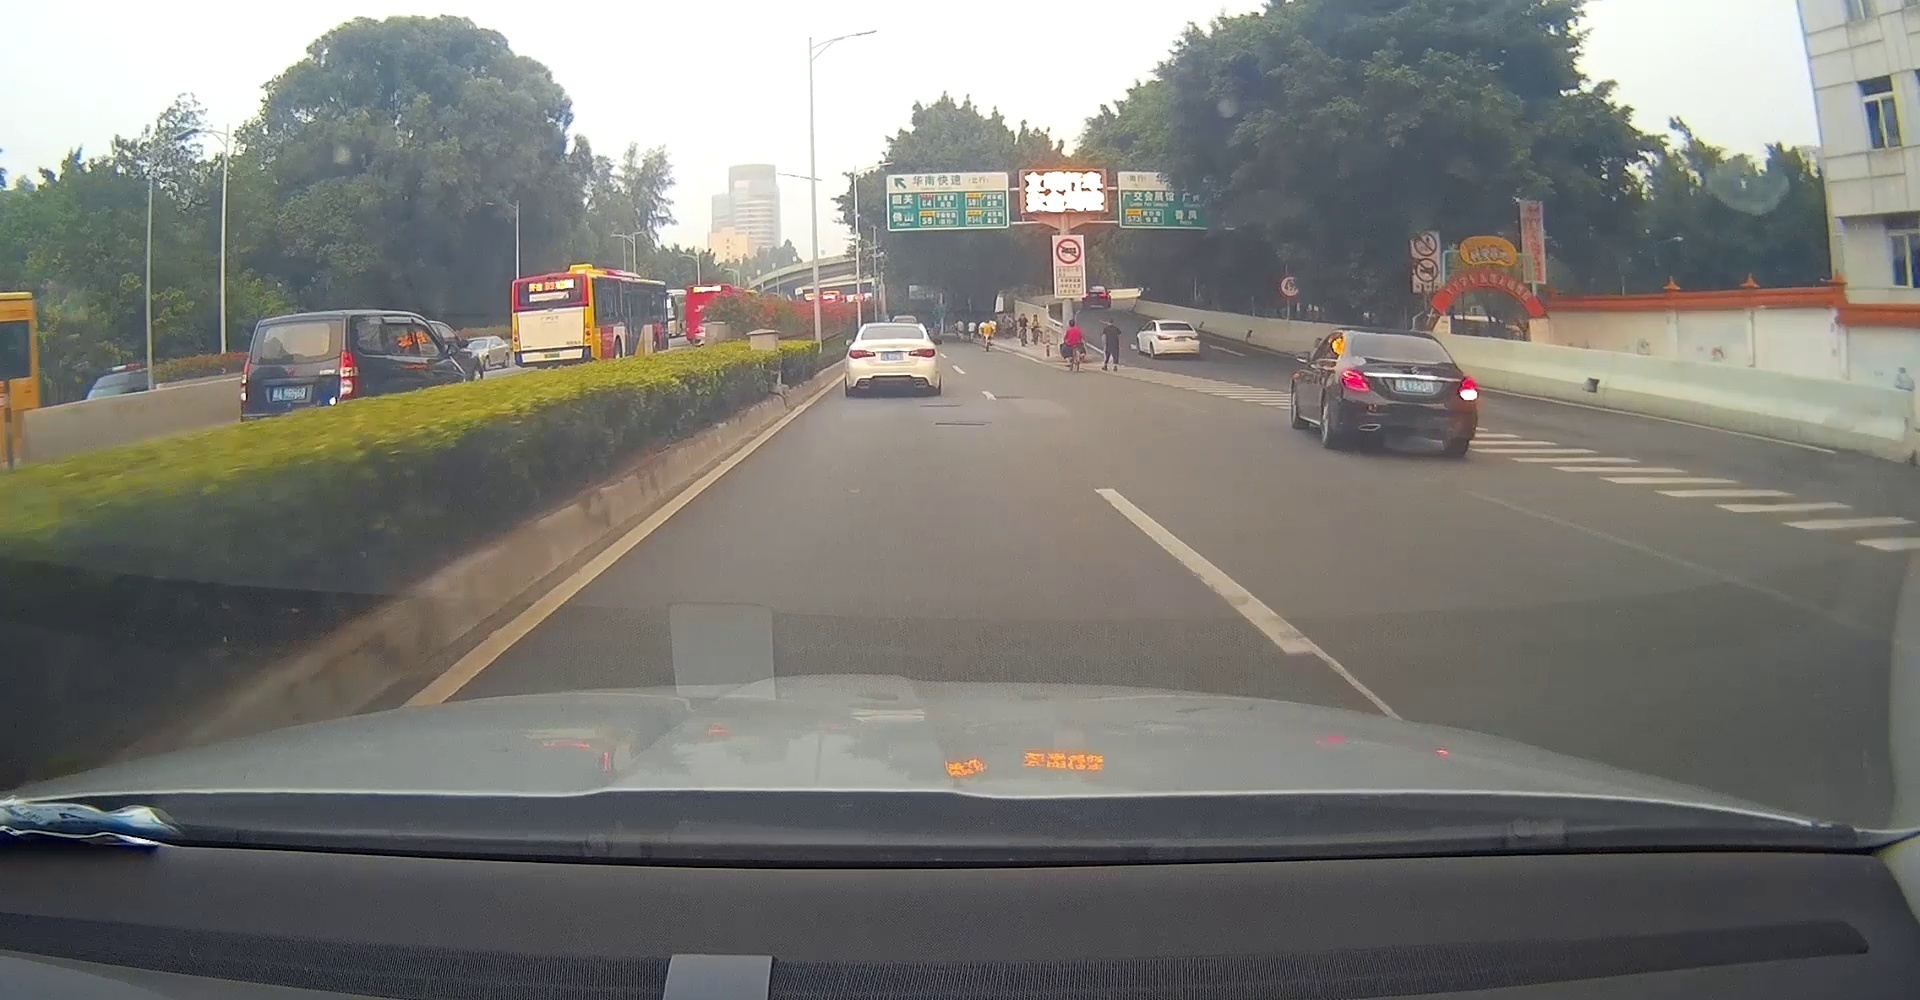L_light: (1341, 369, 1371, 392), (850, 349, 876, 359), (1157, 335, 1172, 341)
R_light: (1458, 376, 1477, 400), (908, 348, 935, 358), (1189, 336, 1199, 340)
T_light: (1390, 334, 1407, 339), (886, 327, 897, 329), (1171, 322, 1178, 324)
day-no: (846, 324, 938, 397), (1156, 320, 1200, 359)
day-right: (1336, 327, 1478, 456)
